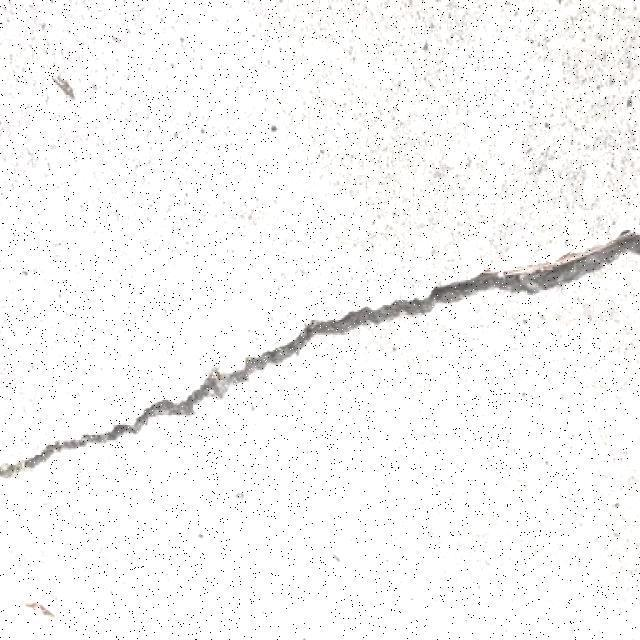Crack: (1, 227, 638, 479)
